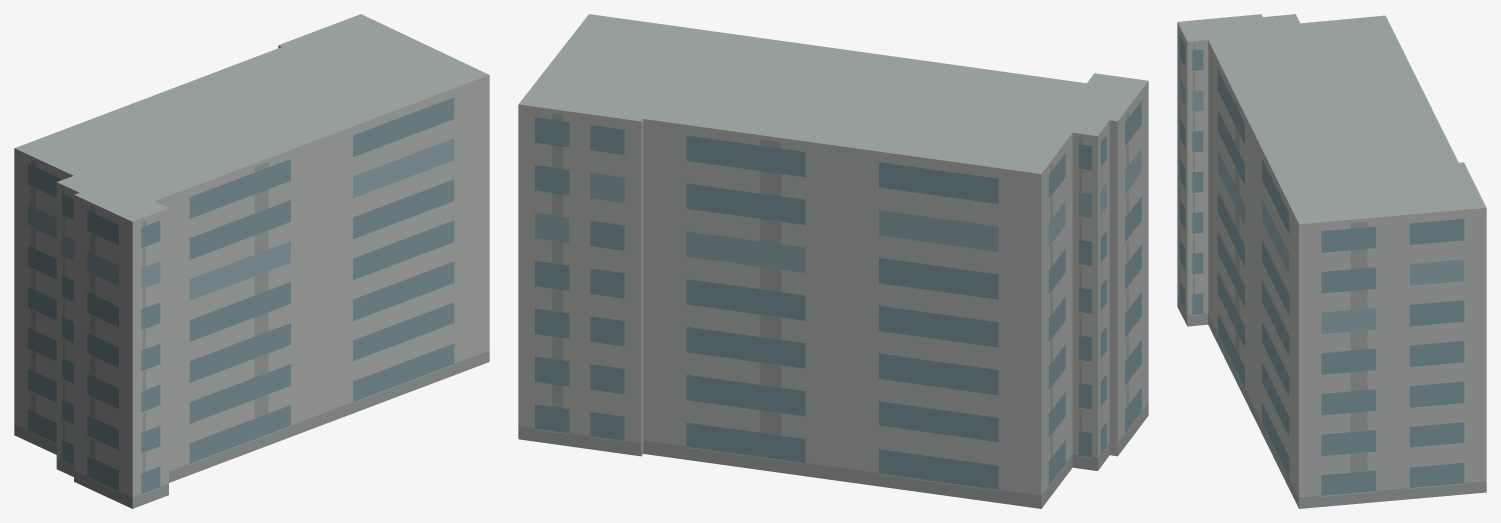
File: survey-upis-32549033.glb
3 views of the same model, side by side, from view 1: azimuth 30°, elevation 25°; view 2: azimuth 150°, elevation 25°; view 3: azimuth 270°, elevation 25° (orthographic). The views are drawn at different scales.
Parts seen in each view (by area): view 1: survey-upis-32549033.tmp; view 2: survey-upis-32549033.tmp; view 3: survey-upis-32549033.tmp.
Boxes of the visible parts, x1,y1,x2,y2 form: survey-upis-32549033.tmp: [14, 14, 489, 508]; survey-upis-32549033.tmp: [518, 14, 1148, 508]; survey-upis-32549033.tmp: [1177, 14, 1486, 508].
Bounding box in the file's own units: 31.53 × 19.9 × 19.6.
